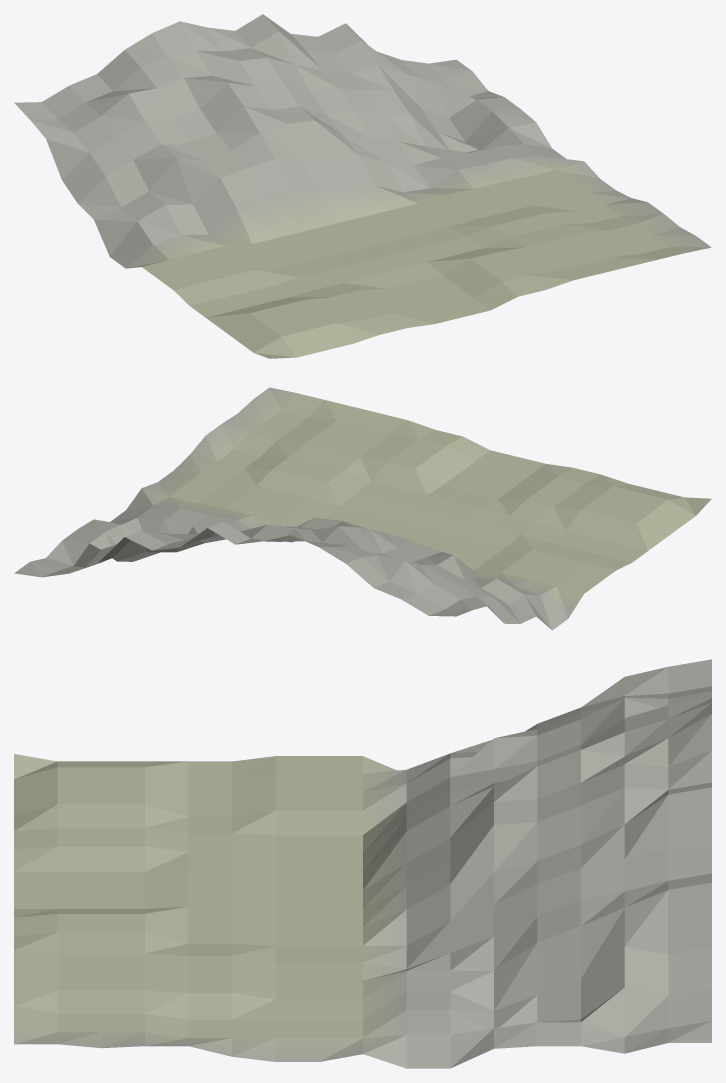
The picture shows the model from 3 angles, top to bottom: view 1: azimuth 30°, elevation 25°; view 2: azimuth 150°, elevation 25°; view 3: azimuth 270°, elevation 25°; orthographic projection. The views are drawn at different scales.
Bounding box in the file's own units: 32 × 8.81 × 32.
